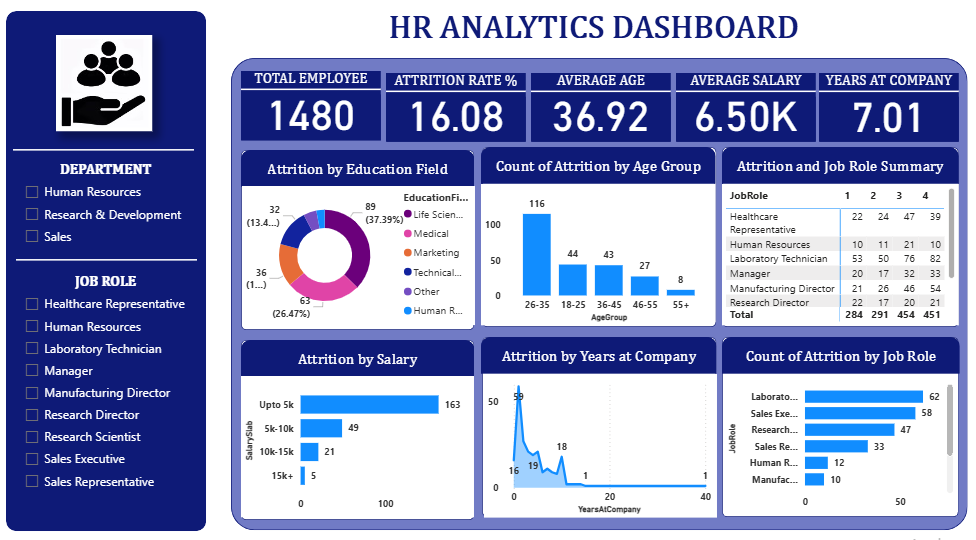

This screenshot's page, from the dashboard's own definition file:
{"tool":"powerbi","page":{"name":"Page 1","canvas":[1280,720],"ordinal":0},"visuals":[{"type":"shape","box":[10.1,21.6,262.1,681.1],"z":0},{"type":"shape","box":[305.5,84.4,964.4,618.2],"z":1000},{"type":"shape","title":"TOTAL EMPLOYEE","box":[317.8,101.1,183.5,91],"z":2000},{"type":"shape","title":"YEARS AT COMPANY","box":[1074.9,103.3,183.3,90.2],"z":3000},{"type":"shape","title":"ATTRITION RATE %","box":[507.6,103.3,183.3,90.2],"z":4000},{"type":"shape","title":"AVERAGE AGE","box":[698.2,103.3,183.3,90.2],"z":5000},{"type":"shape","title":"AVERAGE SALARY","box":[887.3,103.3,183.3,90.2],"z":6000},{"type":"shape","box":[318.5,203.6,305.5,235.6],"z":7000},{"type":"shape","box":[318.5,452.4,305.5,235.6],"z":8000},{"type":"shape","box":[633.3,200.7,306.9,235.6],"z":9000},{"type":"shape","box":[633.3,449.5,306.9,235.6],"z":10000},{"type":"shape","box":[948.4,200.7,309.8,235.6],"z":11000},{"type":"shape","box":[948.4,449.5,309.8,235.6],"z":12000},{"type":"shape","box":[318.5,203.6,305.5,48],"z":13000},{"type":"shape","box":[632.7,200.7,306.9,48],"z":14000},{"type":"shape","box":[948.4,200.7,309.8,48],"z":15000},{"type":"shape","box":[318.5,452.4,305.5,48],"z":16000},{"type":"shape","box":[632.7,449.5,308.4,48],"z":17000},{"type":"shape","box":[948.4,449.5,311.3,48],"z":18000},{"type":"textbox","box":[497.5,17,564.2,58.9],"z":19000},{"type":"image","box":[76.6,53.5,125.7,125.7],"z":20000},{"type":"slicer","title":"DEPARTMENT","fields":{"Values":["HR_Analytics.Department"]},"box":[23.3,220.1,234.2,128],"z":21000},{"type":"slicer","title":"JOB ROLE","fields":{"Values":["HR_Analytics.JobRole"]},"box":[23.3,367,234.2,301.1],"z":22000},{"type":"donutChart","fields":{"Y":["CountNonNull(HR_Analytics.Attrition)"],"Category":["HR_Analytics.EducationField"]},"box":[320,251.6,305.5,181.8],"z":23000},{"type":"clusteredColumnChart","fields":{"Category":["HR_Analytics.AgeGroup"],"Y":["CountNonNull(HR_Analytics.Attrition)"]},"box":[632.8,248.5,304.8,184.9],"z":24000},{"type":"pivotTable","fields":{"Rows":["HR_Analytics.JobRole"],"Columns":["HR_Analytics.EnvironmentSatisfaction"],"Values":["CountNonNull(HR_Analytics.Attrition)"]},"box":[948.4,248.7,309.8,184.7],"z":25000},{"type":"clusteredBarChart","fields":{"Category":["HR_Analytics.SalarySlab"],"Y":["CountNonNull(HR_Analytics.Attrition)"]},"box":[317.8,499.9,304.8,184.9],"z":26000},{"type":"areaChart","fields":{"Category":["HR_Analytics.YearsAtCompany"],"Y":["CountNonNull(HR_Analytics.Attrition)"]},"box":[635.7,497,304.8,187.8],"z":27000},{"type":"clusteredBarChart","fields":{"Y":["CountNonNull(HR_Analytics.Attrition)"],"Category":["HR_Analytics.JobRole"]},"box":[950.6,497,304.8,184.9],"z":28000},{"type":"card","fields":{"Values":["CountNonNull(HR_Analytics.EmpID)"]},"box":[326.5,114.1,166.1,75.1],"z":29000},{"type":"card","fields":{"Values":["Calculated Measure.Attrition Rate"]},"box":[515.8,114.1,166.1,78],"z":30000},{"type":"card","fields":{"Values":["Calculated Measure.Average_Age"]},"box":[705,114.1,166.1,79.5],"z":31000},{"type":"card","fields":{"Values":["Calculated Measure.Average_Salary"]},"box":[895.7,114.1,166.1,79.5],"z":32000},{"type":"card","fields":{"Values":["Calculated Measure.Average_years_at_company"]},"box":[1082.1,115.6,166.1,78],"z":33000},{"type":"shape","box":[20.2,192.1,236.9,23.1],"z":33001},{"type":"shape","box":[23.1,336.6,236.9,23.1],"z":33002}]}

Visuals, with their boxes in screenshot pixels (x1, y1, x2, y2), scaled from the page's 1280x720 canvas onto the 976x540 screenshot:
shape: <region>8, 16, 208, 527</region>
shape: <region>233, 63, 968, 527</region>
"TOTAL EMPLOYEE" shape: <region>242, 76, 382, 144</region>
"YEARS AT COMPANY" shape: <region>820, 77, 959, 145</region>
"ATTRITION RATE %" shape: <region>387, 77, 527, 145</region>
"AVERAGE AGE" shape: <region>532, 77, 672, 145</region>
"AVERAGE SALARY" shape: <region>677, 77, 816, 145</region>
shape: <region>243, 153, 476, 329</region>
shape: <region>243, 339, 476, 516</region>
shape: <region>483, 151, 717, 327</region>
shape: <region>483, 337, 717, 514</region>
shape: <region>723, 151, 959, 327</region>
shape: <region>723, 337, 959, 514</region>
shape: <region>243, 153, 476, 189</region>
shape: <region>482, 151, 716, 187</region>
shape: <region>723, 151, 959, 187</region>
shape: <region>243, 339, 476, 375</region>
shape: <region>482, 337, 718, 373</region>
shape: <region>723, 337, 961, 373</region>
textbox: <region>379, 13, 810, 57</region>
image: <region>58, 40, 154, 134</region>
"DEPARTMENT" slicer: <region>18, 165, 196, 261</region>
"JOB ROLE" slicer: <region>18, 275, 196, 501</region>
donutChart - CountNonNull(HR_Analytics.Attrition) x HR_Analytics.EducationField: <region>244, 189, 477, 325</region>
clusteredColumnChart - HR_Analytics.AgeGroup x CountNonNull(HR_Analytics.Attrition): <region>483, 186, 715, 325</region>
pivotTable - HR_Analytics.JobRole x HR_Analytics.EnvironmentSatisfaction: <region>723, 187, 959, 325</region>
clusteredBarChart - HR_Analytics.SalarySlab x CountNonNull(HR_Analytics.Attrition): <region>242, 375, 475, 514</region>
areaChart - HR_Analytics.YearsAtCompany x CountNonNull(HR_Analytics.Attrition): <region>485, 373, 717, 514</region>
clusteredBarChart - CountNonNull(HR_Analytics.Attrition) x HR_Analytics.JobRole: <region>725, 373, 957, 511</region>
card - CountNonNull(HR_Analytics.EmpID): <region>249, 86, 376, 142</region>
card - Calculated Measure.Attrition Rate: <region>393, 86, 520, 144</region>
card - Calculated Measure.Average_Age: <region>538, 86, 664, 145</region>
card - Calculated Measure.Average_Salary: <region>683, 86, 810, 145</region>
card - Calculated Measure.Average_years_at_company: <region>825, 87, 952, 145</region>
shape: <region>15, 144, 196, 161</region>
shape: <region>18, 252, 198, 270</region>
